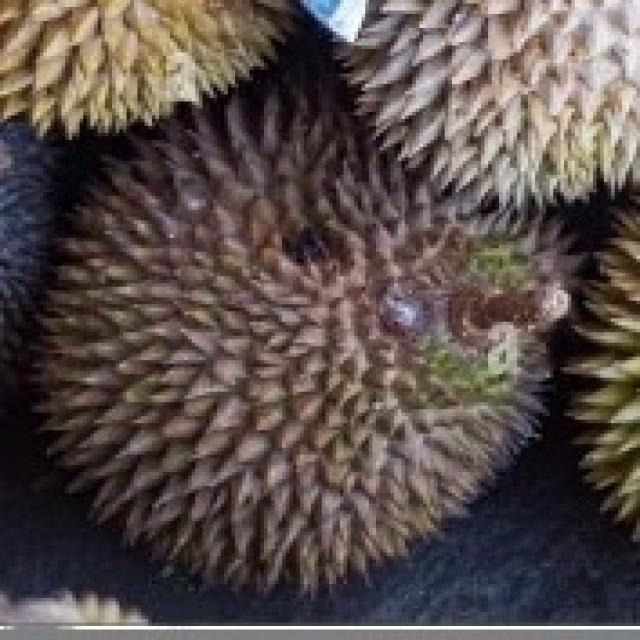defective: (30, 71, 574, 598)
